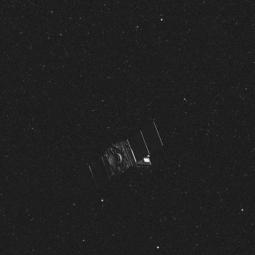soho: (80, 119, 164, 186)
